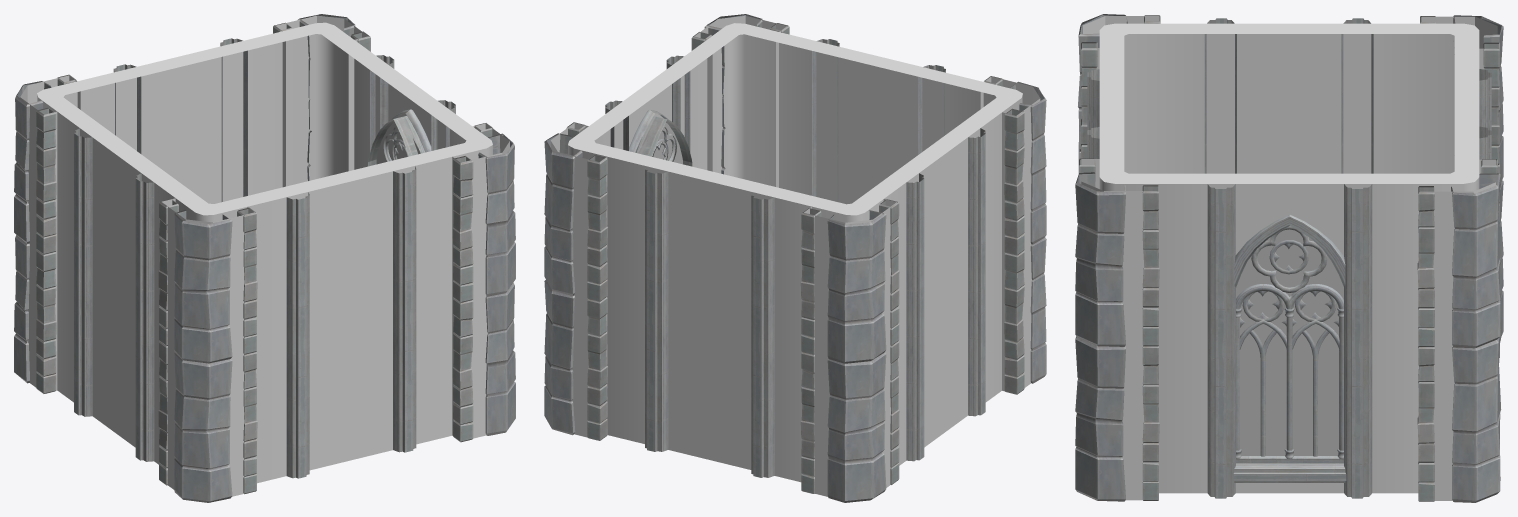
File: SM_TowerF_Mid_04_Window.fbx
The picture shows the model from 3 angles, left to right: view 1: azimuth 30°, elevation 25°; view 2: azimuth 150°, elevation 25°; view 3: azimuth 270°, elevation 25°; orthographic projection. The views are drawn at different scales.
Visible parts, largest first — view 1: SM_TowerF_Mid_04_Window_LOD0; view 2: SM_TowerF_Mid_04_Window_LOD0; view 3: SM_TowerF_Mid_04_Window_LOD0.
Boxes of the visible parts, x1,y1,x2,y2 form: SM_TowerF_Mid_04_Window_LOD0: (14, 14, 515, 502); SM_TowerF_Mid_04_Window_LOD0: (544, 14, 1046, 502); SM_TowerF_Mid_04_Window_LOD0: (1075, 14, 1503, 502).
Size of what is drawn, in the model's own units: 11.29 by 9 by 11.29.
